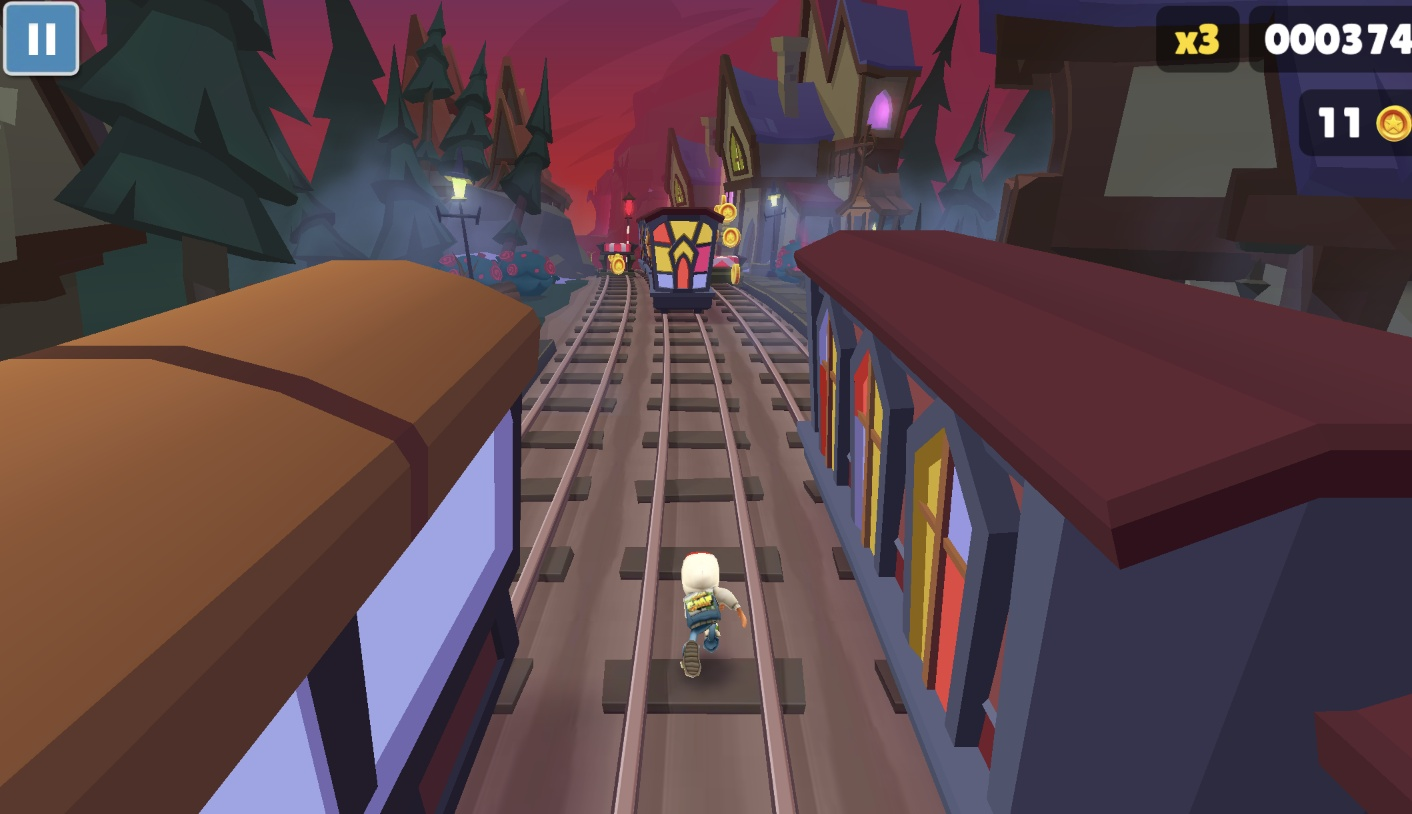ground_barrier: (599, 245, 633, 277), (711, 256, 741, 284)
train: (794, 229, 1412, 814), (0, 259, 543, 814), (633, 207, 727, 317)
